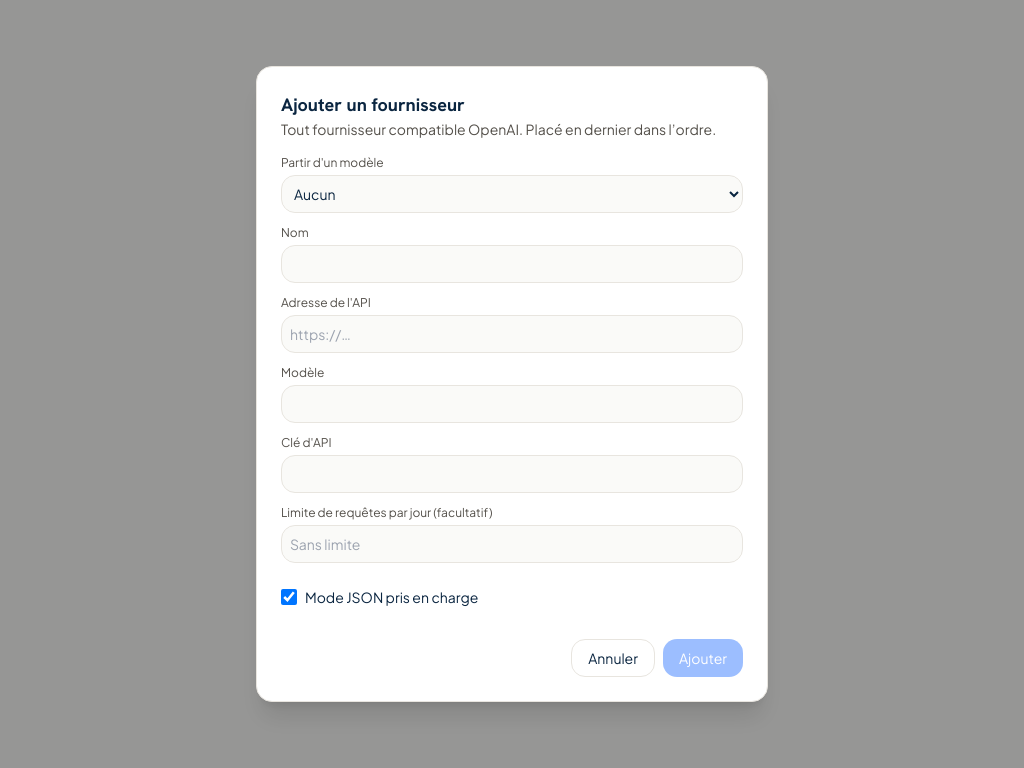
Scenario: ProviderFormDialog › limite par jour › « 1e » : erreur sous le champ, aucun envoi
Step 1. Type "Groq" into the field with test id "provider-name" → (512, 264), box [281,245,743,283]
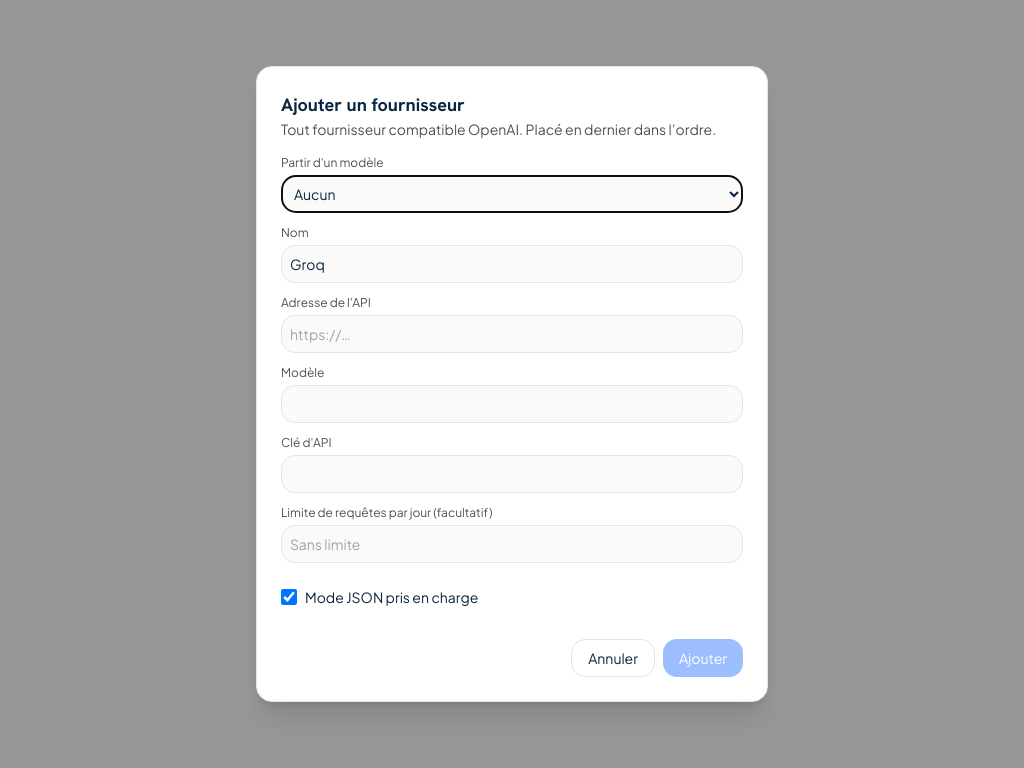
Step 2. Type "https://a.com" into the field with test id "provider-base-url" → (512, 334), box [281,315,743,353]
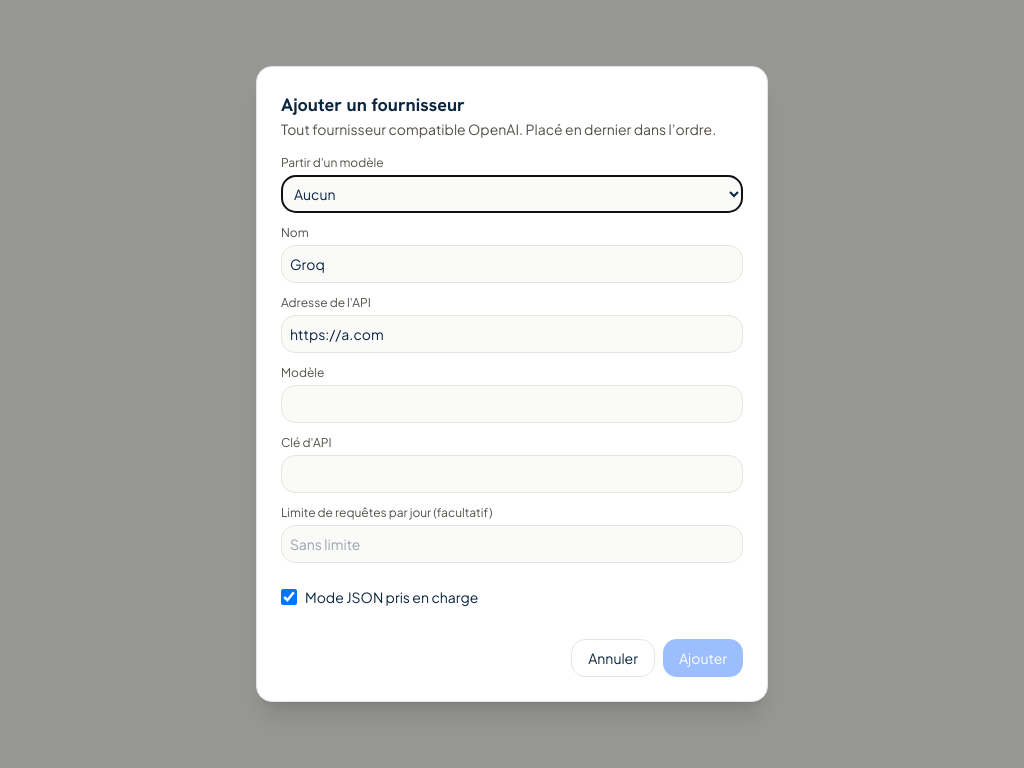
Step 3. Type "m" into the field with test id "provider-model" → (512, 404), box [281,385,743,423]
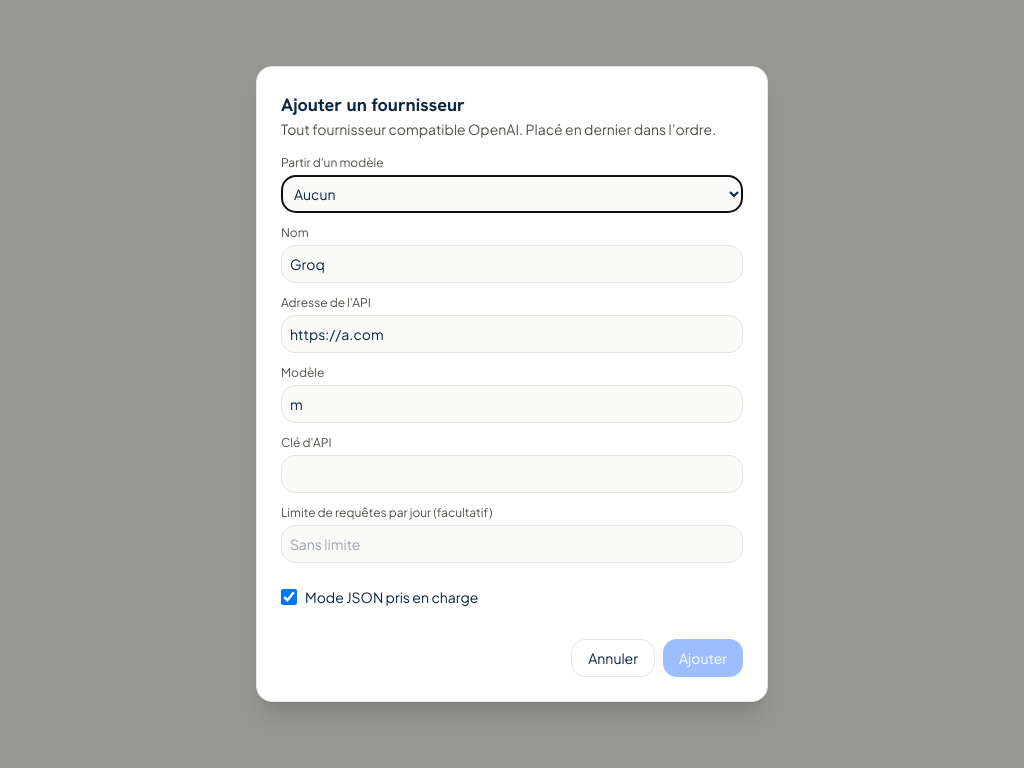
Step 4. Type "gsk_secret_1" into the password field with test id "provider-api-key" → (512, 474), box [281,455,743,493]
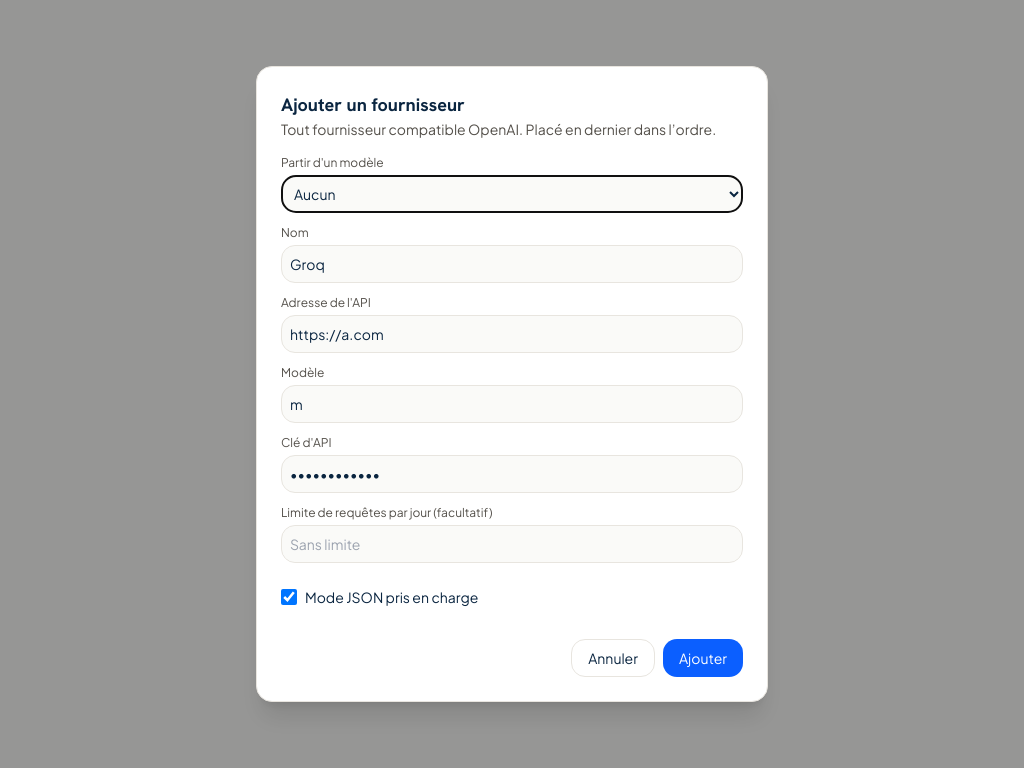
Step 5. Type "1e" into the field with test id "provider-limit" → (512, 544), box [281,525,743,563]
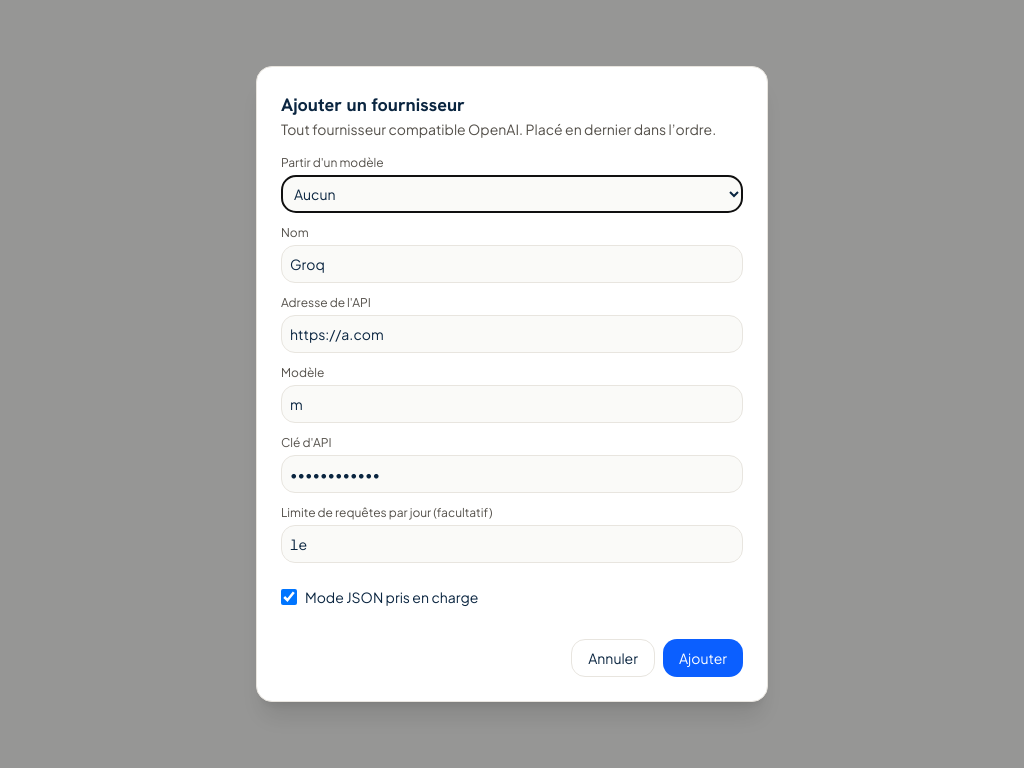
Step 6. Click the button with test id "provider-submit" → (703, 658), box [663,639,743,677]
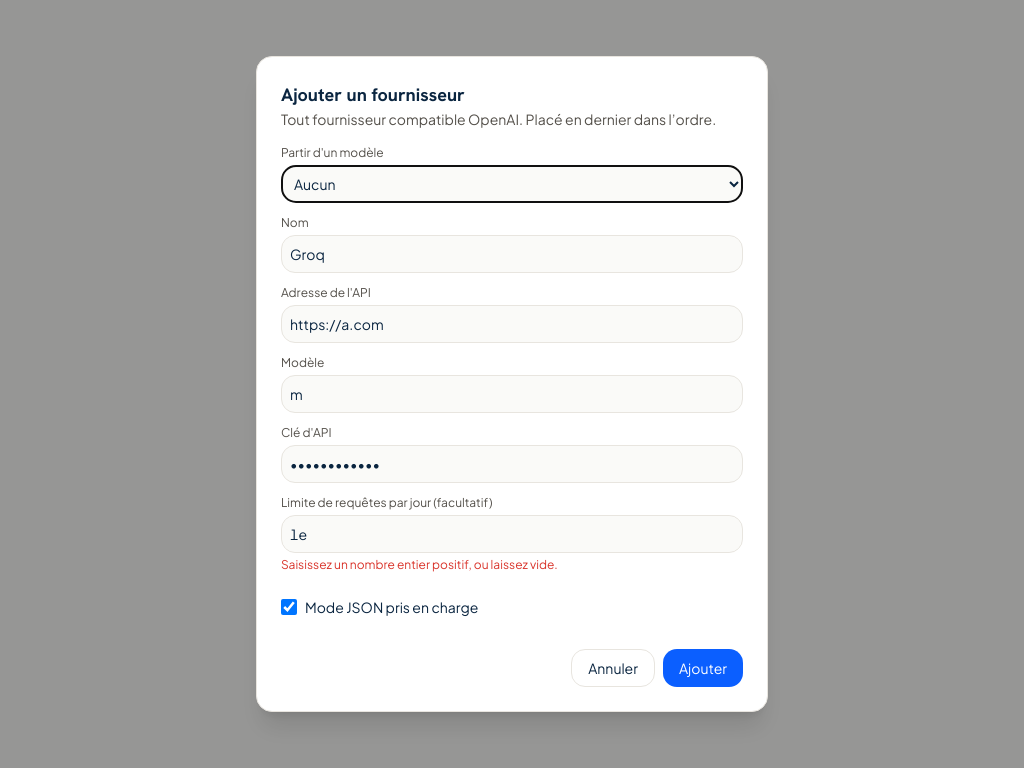
expect the text with test id "provider-field-error-dailyRequestLimit" reads "Saisissez un nombre entier positif, ou laissez vide.": met, box [281,557,558,572]
